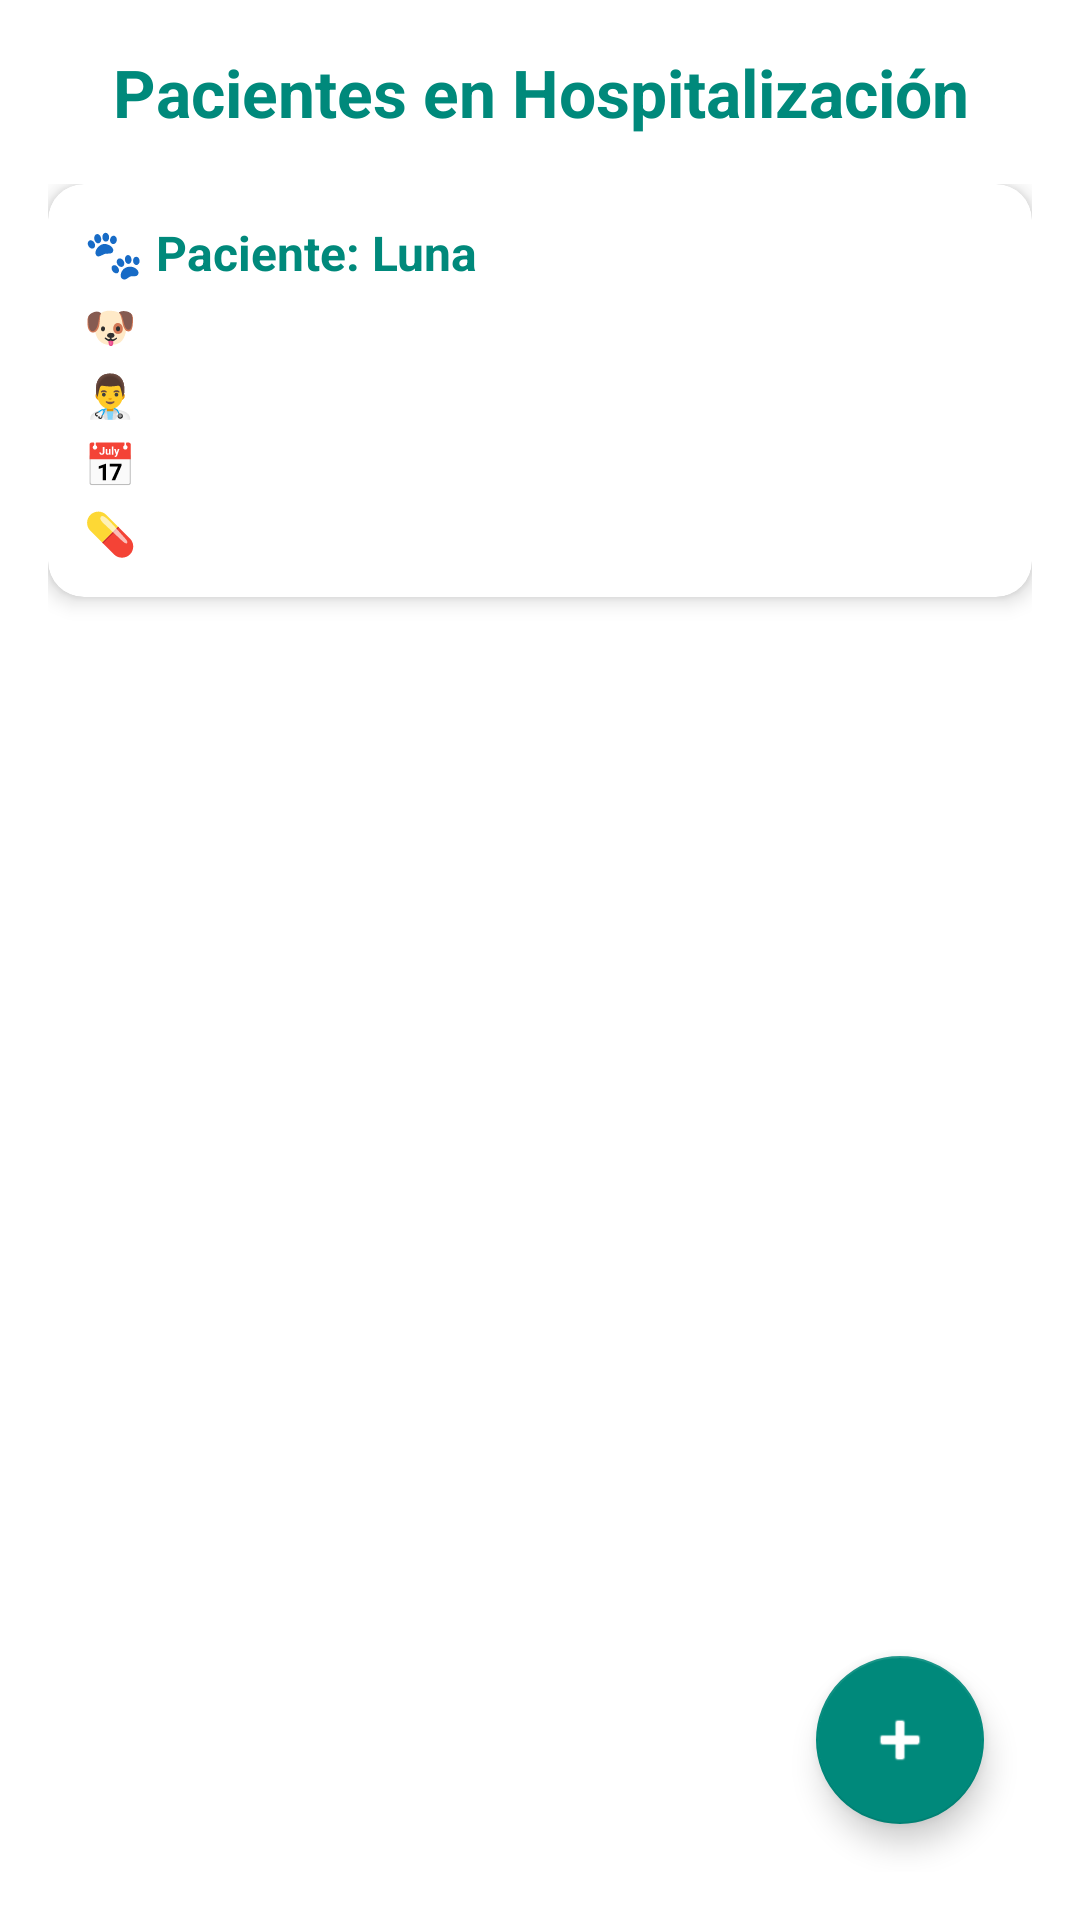

Icons on this 1080 x 1920 Android screen, each with the point to tap as [x,y]:
Agregar nuevo registro de hospitalización: [900,1740]
